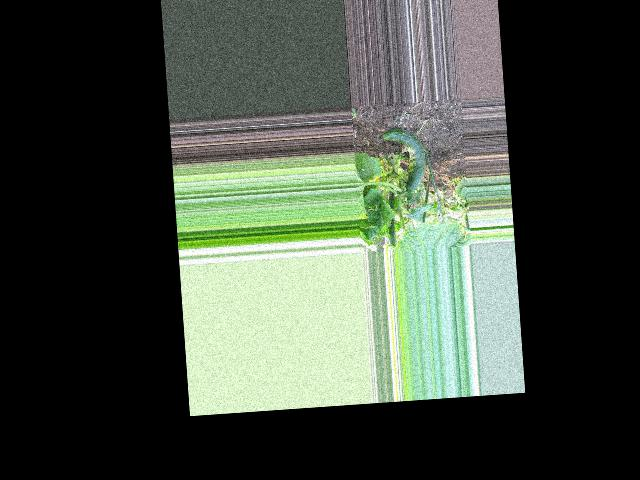cucumber: (382, 126, 428, 194)
